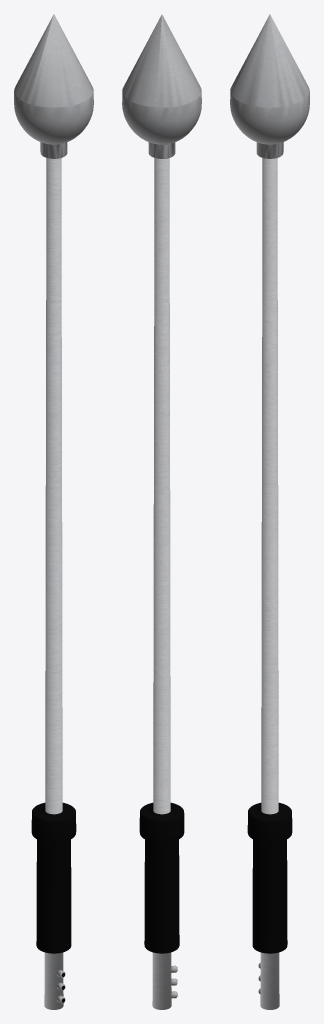
3 renders of one model, left to right at view 1: azimuth 90°, elevation 25°; view 2: azimuth 150°, elevation 25°; view 3: azimuth 270°, elevation 25°, orthographic.
Visible parts, largest first — view 1: Cylinder.020, Cylinder.021; view 2: Cylinder.020, Cylinder.021; view 3: Cylinder.020, Cylinder.021.
Boxes of the visible parts, x1,y1,x2,y2 form: Cylinder.020: [14, 14, 93, 1009]; Cylinder.021: [31, 802, 76, 953]; Cylinder.020: [122, 14, 201, 1009]; Cylinder.021: [139, 802, 184, 953]; Cylinder.020: [230, 14, 309, 1009]; Cylinder.021: [247, 802, 292, 953].
Bounding box in the file's own units: 0.0996 × 1.37 × 0.0999.
Materials: 3 (1 with a texture image).
